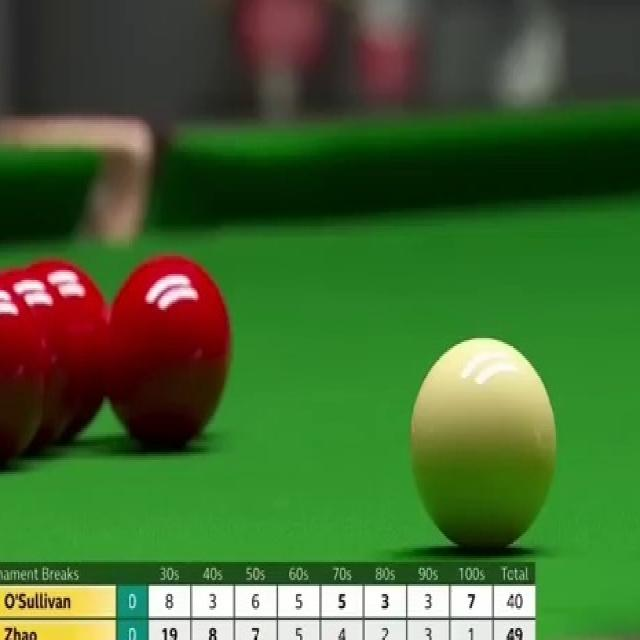red-ball: (108, 252, 232, 448), (3, 269, 54, 463), (57, 257, 108, 446)
white-ball: (408, 335, 561, 554)
